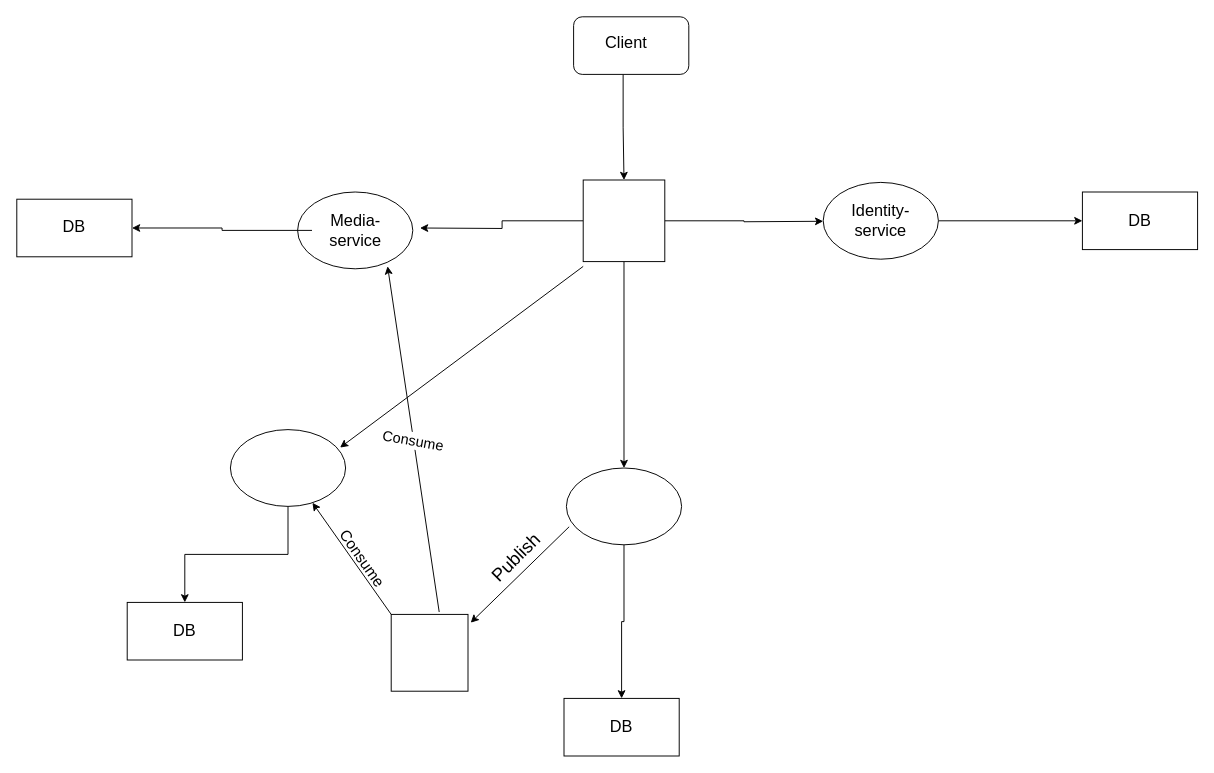
This 1214x773 diagram has some shape labels left out. The centre of each missing label's shape, as x and y in pixels:
"API gateway" belongs at (x=623, y=220).
"Post-service" belongs at (x=623, y=506).
"RabbitMq" belongs at (x=429, y=652).
"Search-service" belongs at (x=287, y=467).
